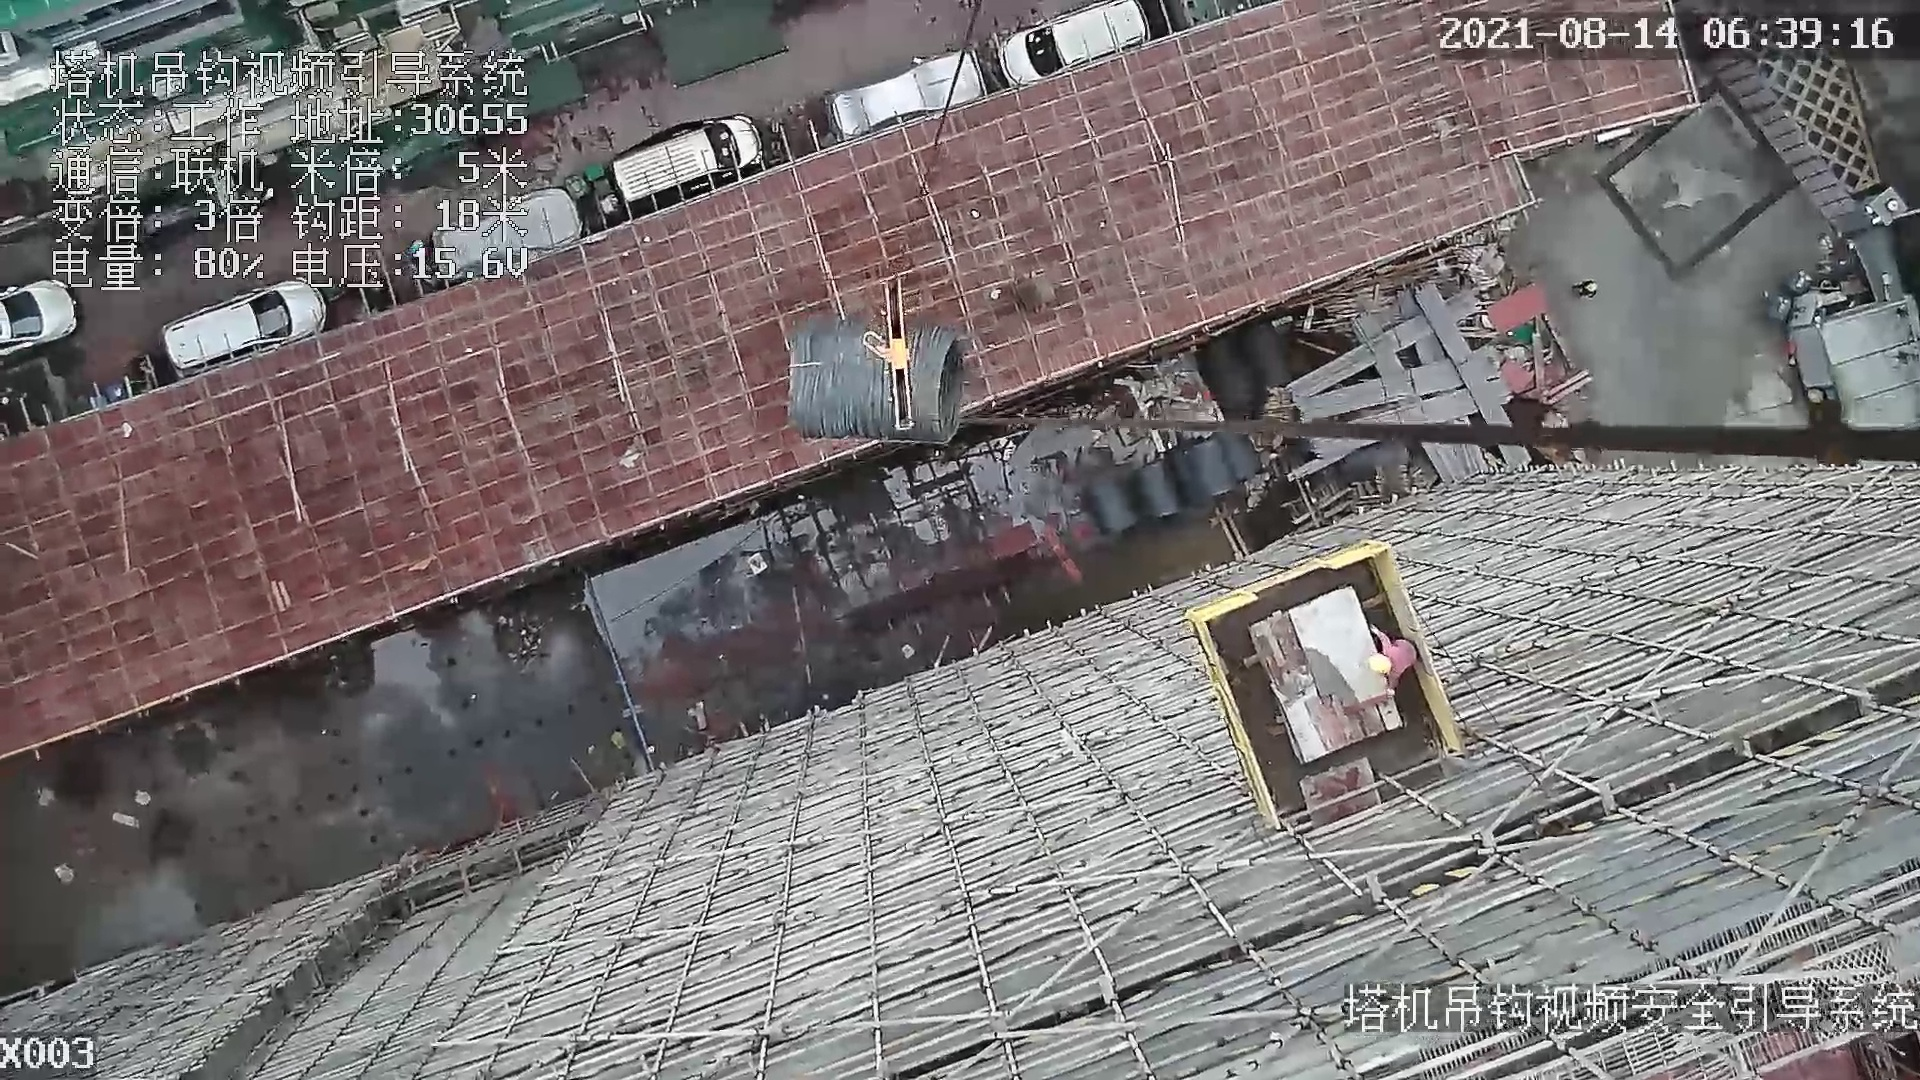helmet: (1371, 638, 1393, 675)
hook: (863, 274, 919, 433)
person: (1367, 619, 1419, 709)
